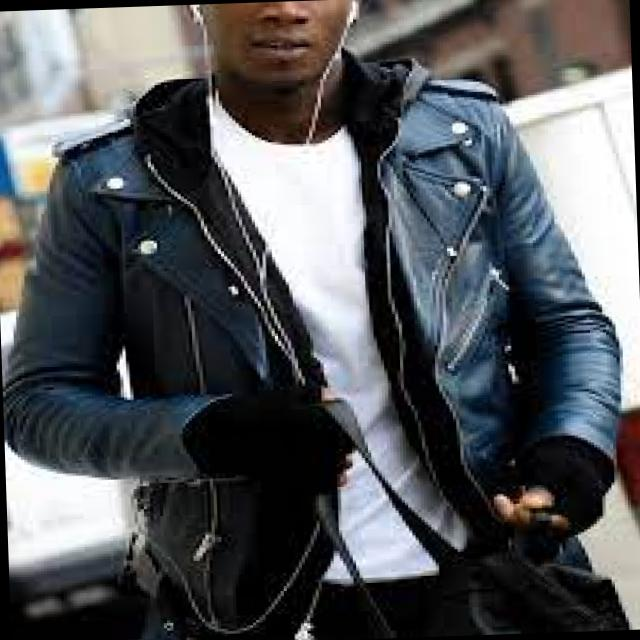Jacket: (0, 69, 640, 569)
